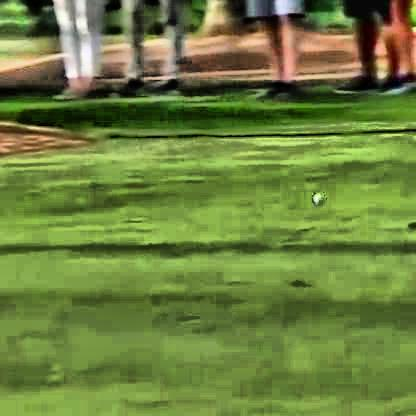golfball: (307, 188, 320, 204)
